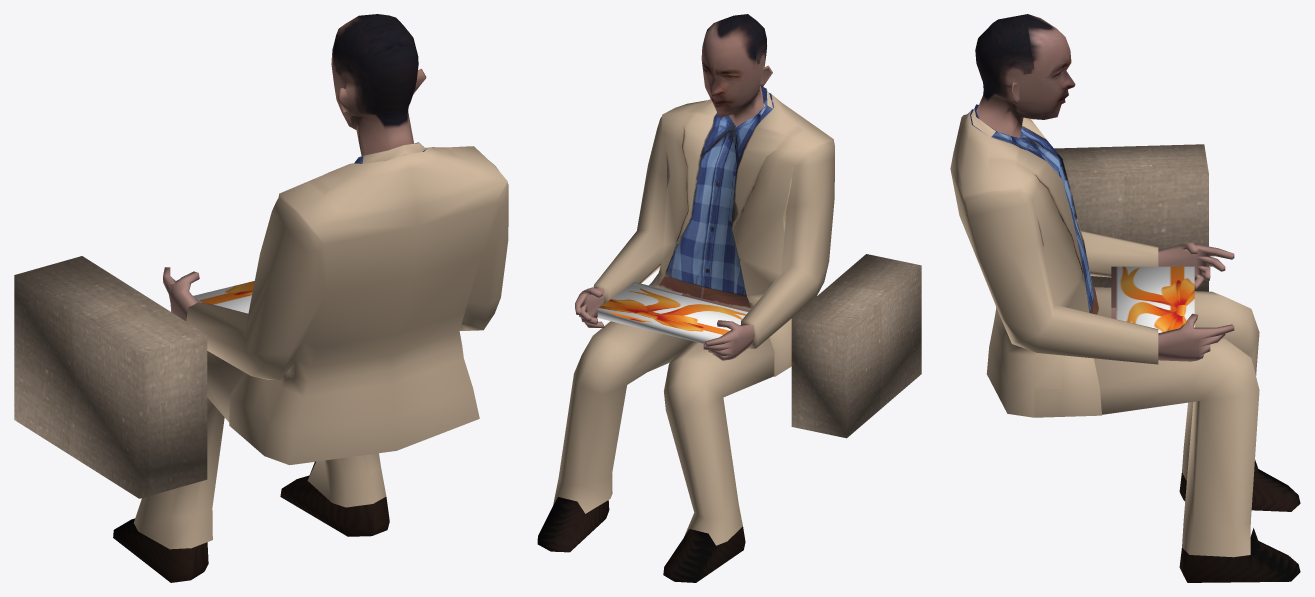
Rendered from Forrest.fbx.
The picture shows the model from 3 angles, left to right: view 1: azimuth 30°, elevation 25°; view 2: azimuth 150°, elevation 25°; view 3: azimuth 270°, elevation 25°; orthographic projection. The views are drawn at different scales.
Visible parts, largest first — view 1: forrest; view 2: forrest; view 3: forrest.
Boxes of the visible parts, left/top/right/bottom form: forrest: left=14, top=14, right=508, bottom=582; forrest: left=537, top=14, right=921, bottom=582; forrest: left=950, top=14, right=1300, bottom=582.
Bounding box in the file's own units: 384 × 598 × 365.
